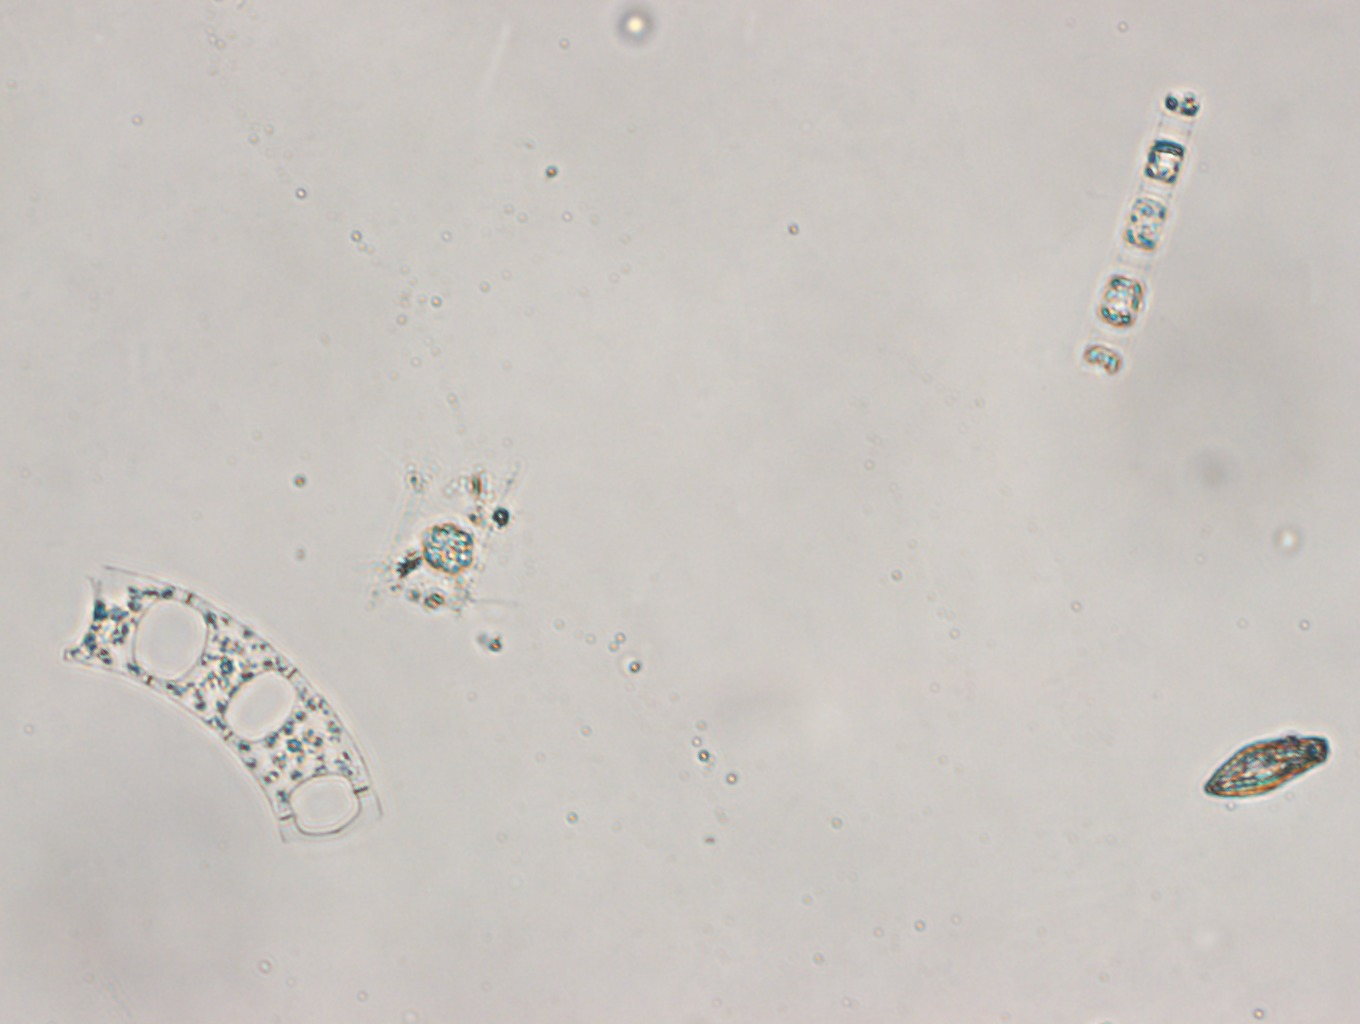chaetoceros: (366, 454, 533, 618)
eucampia: (61, 560, 384, 859)
skeletonema: (1080, 86, 1208, 381)
